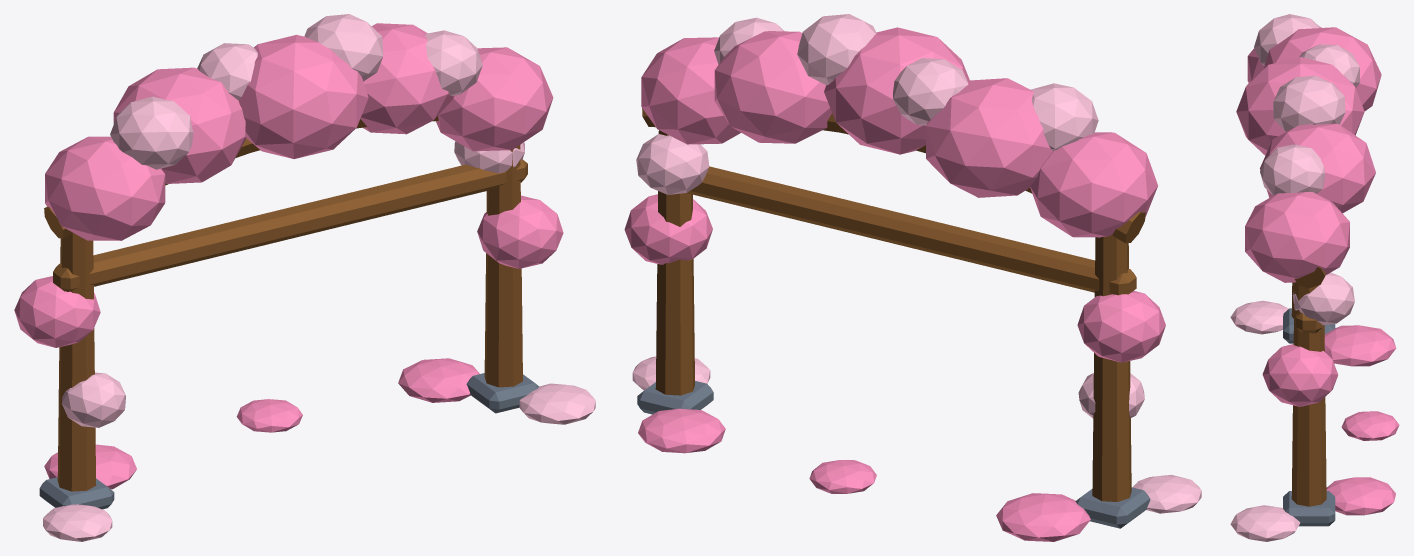
File: Prop_sakura_schoolyard_SakuraArch.glb
3 renders of one model, left to right at view 1: azimuth 30°, elevation 25°; view 2: azimuth 150°, elevation 25°; view 3: azimuth 270°, elevation 25°, orthographic. The views are drawn at different scales.
Parts seen in each view (by area): view 1: Sakura_FF8FC0, Bark_8A5A2B, SakuraLight_FFC4DD, StoneDark_6B7686; view 2: Sakura_FF8FC0, Bark_8A5A2B, SakuraLight_FFC4DD, StoneDark_6B7686; view 3: Sakura_FF8FC0, SakuraLight_FFC4DD, Bark_8A5A2B, StoneDark_6B7686.
Part boxes in pixels (<box>): Sakura_FF8FC0: <box>14,23,563,489</box>; Bark_8A5A2B: <box>44,115,527,491</box>; SakuraLight_FFC4DD: <box>43,14,595,541</box>; StoneDark_6B7686: <box>39,373,539,509</box>; Sakura_FF8FC0: <box>624,27,1165,541</box>; Bark_8A5A2B: <box>642,108,1145,501</box>; SakuraLight_FFC4DD: <box>632,14,1201,513</box>; StoneDark_6B7686: <box>637,381,1150,528</box>; Sakura_FF8FC0: <box>1236,26,1399,515</box>; SakuraLight_FFC4DD: <box>1230,14,1359,541</box>; Bark_8A5A2B: <box>1291,267,1326,506</box>; StoneDark_6B7686: <box>1283,308,1335,526</box>.
Bounding box in the file's own units: 19 × 14.21 × 5.8.
